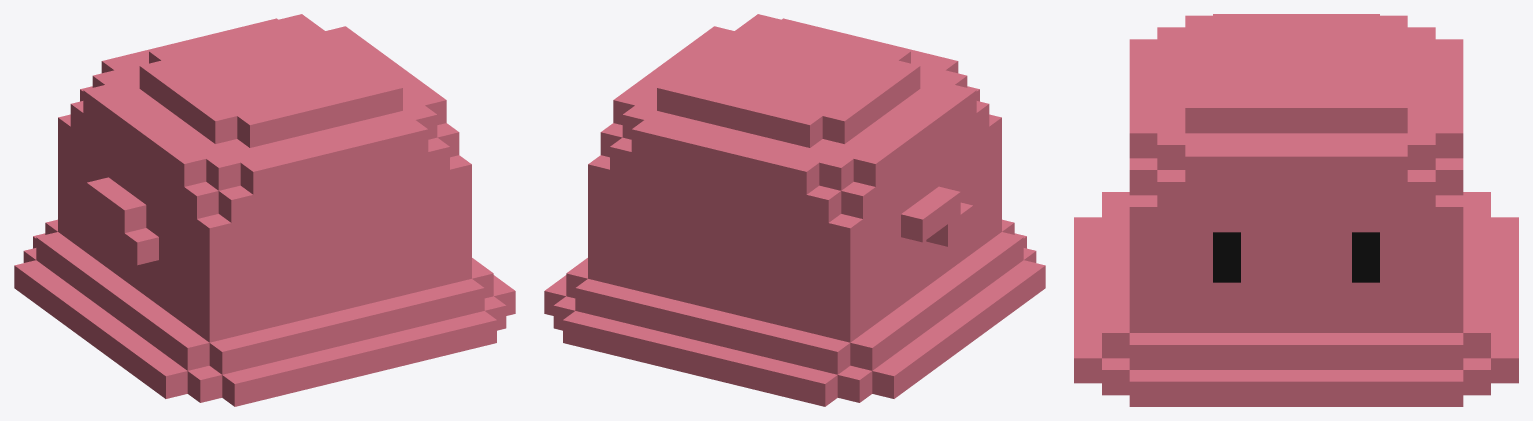
File: slime8.obj
The picture shows the model from 3 angles, left to right: view 1: azimuth 30°, elevation 25°; view 2: azimuth 150°, elevation 25°; view 3: azimuth 270°, elevation 25°; orthographic projection. The views are drawn at different scales.
Bounding box in the file's own units: 1.6 × 1 × 1.6.
Materials: 1 (1 with a texture image).
